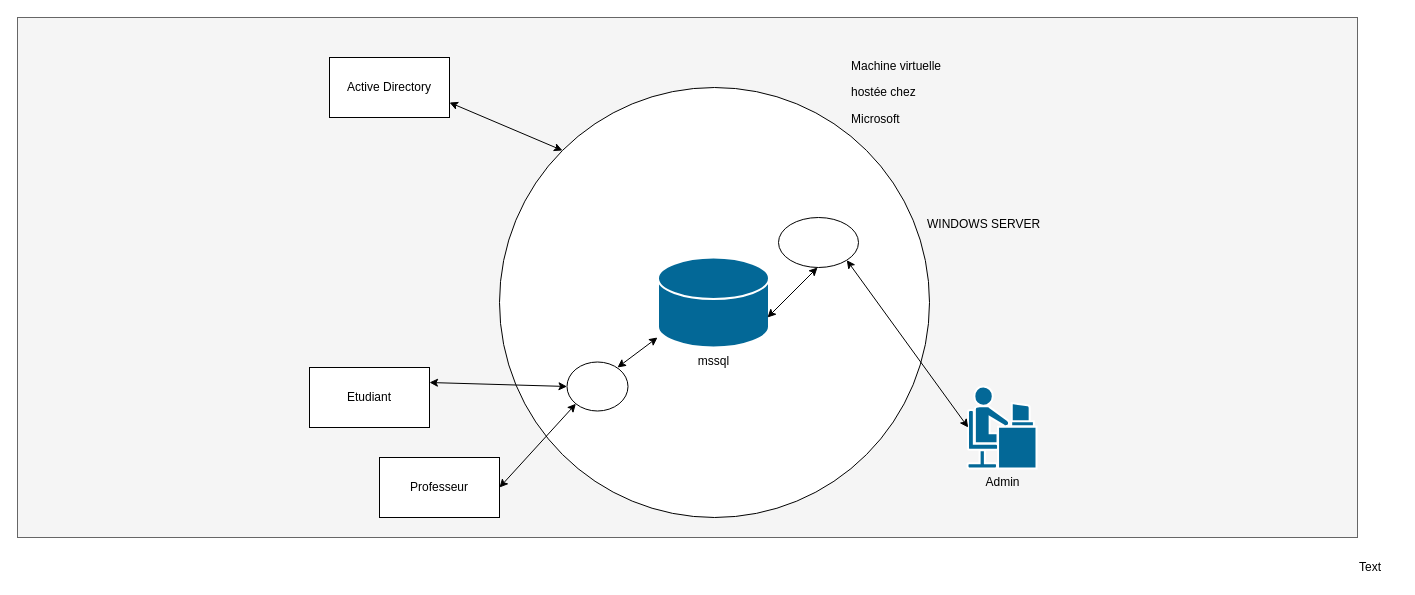
Image size: 1415x595. Some labels were removed from this diagram. Here are the shapes that lost their labels. From the top down, the centre of each, then its label:
the point at 818,242: .NET
the point at 597,386: PHP
